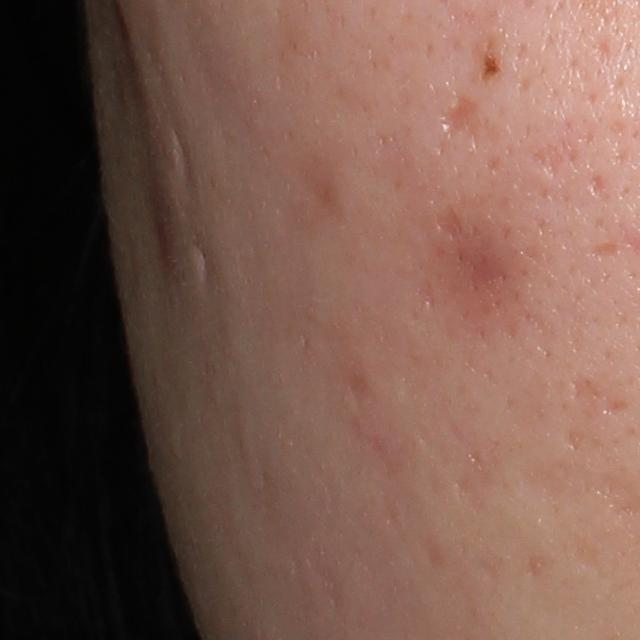atrophic_scar: (572, 537, 615, 588), (532, 141, 569, 180), (348, 374, 369, 405), (438, 208, 462, 234), (562, 427, 585, 453), (591, 174, 604, 198)
